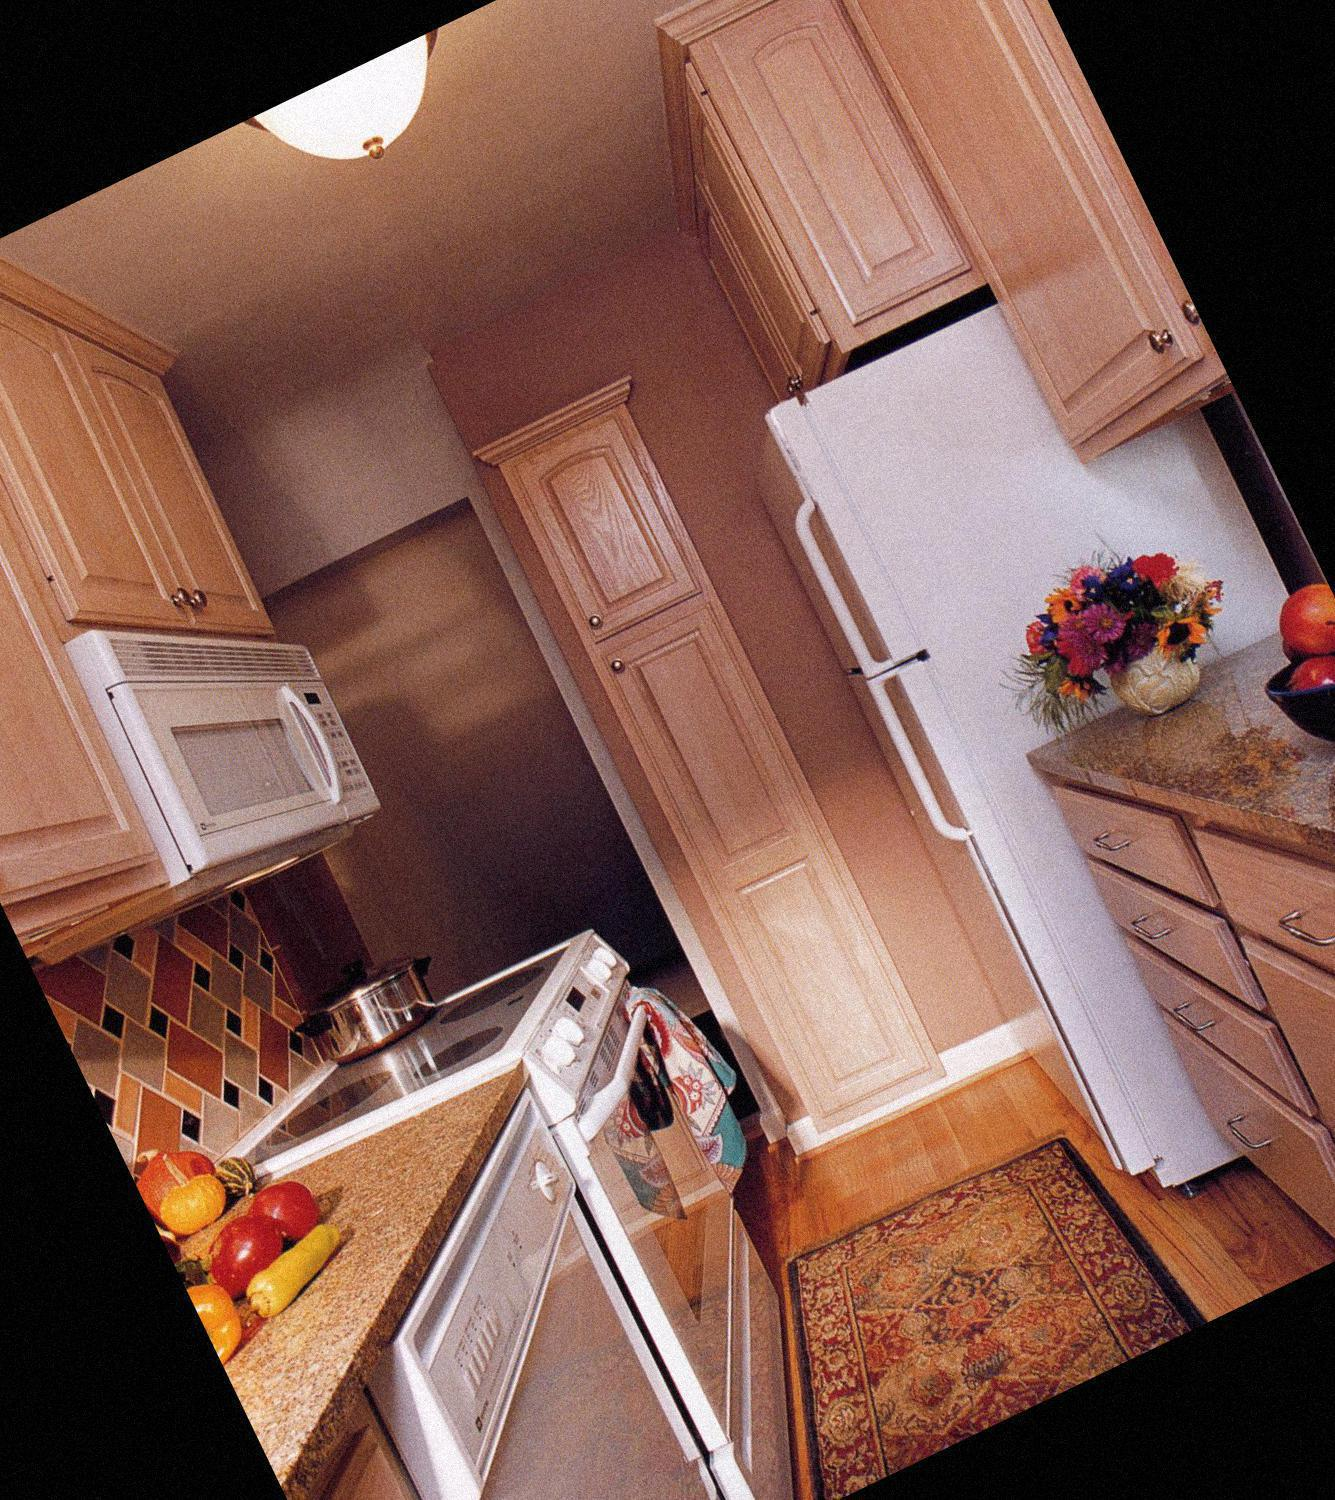Electrodomestico: (725, 370, 1232, 1215), (485, 921, 849, 1478), (367, 1214, 738, 1500)
